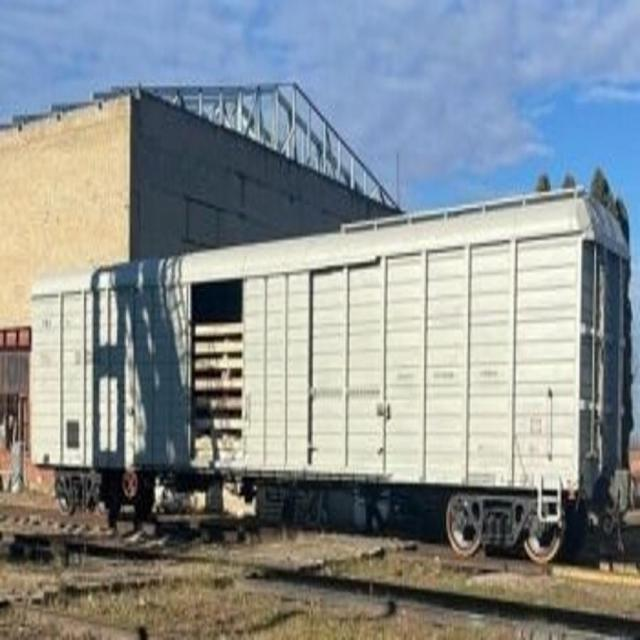boxcar: (17, 170, 638, 534)
